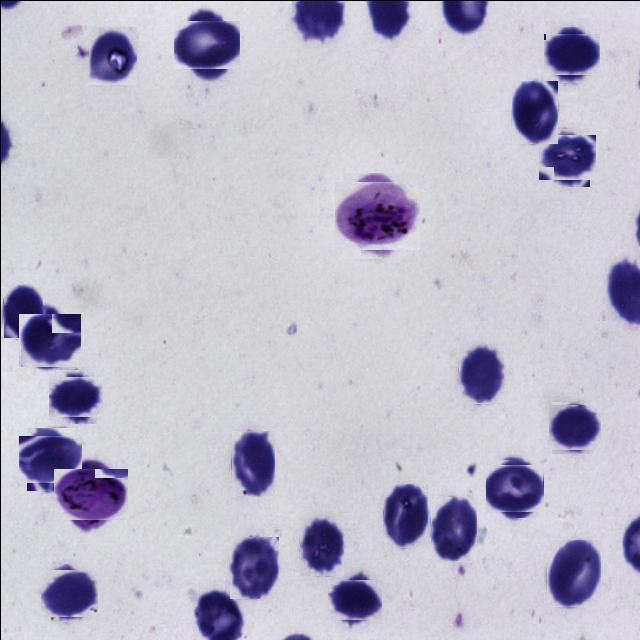gametocyte: (58, 462, 122, 526)
red blood cell: (546, 539, 600, 606), (20, 311, 78, 369), (177, 14, 235, 72), (228, 536, 278, 599), (22, 431, 78, 486), (431, 496, 476, 561), (382, 483, 427, 548), (230, 430, 274, 496), (511, 80, 557, 143), (88, 26, 136, 84), (457, 343, 503, 403), (488, 461, 540, 514), (540, 130, 592, 182), (42, 566, 94, 618), (298, 517, 343, 576), (550, 402, 598, 452), (546, 30, 596, 78), (52, 372, 100, 420), (331, 575, 378, 623), (2, 284, 42, 338)
schizont: (338, 176, 414, 254)
